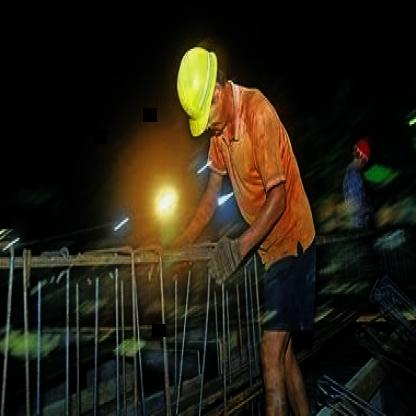helmet: (171, 44, 225, 130), (348, 132, 372, 178)
